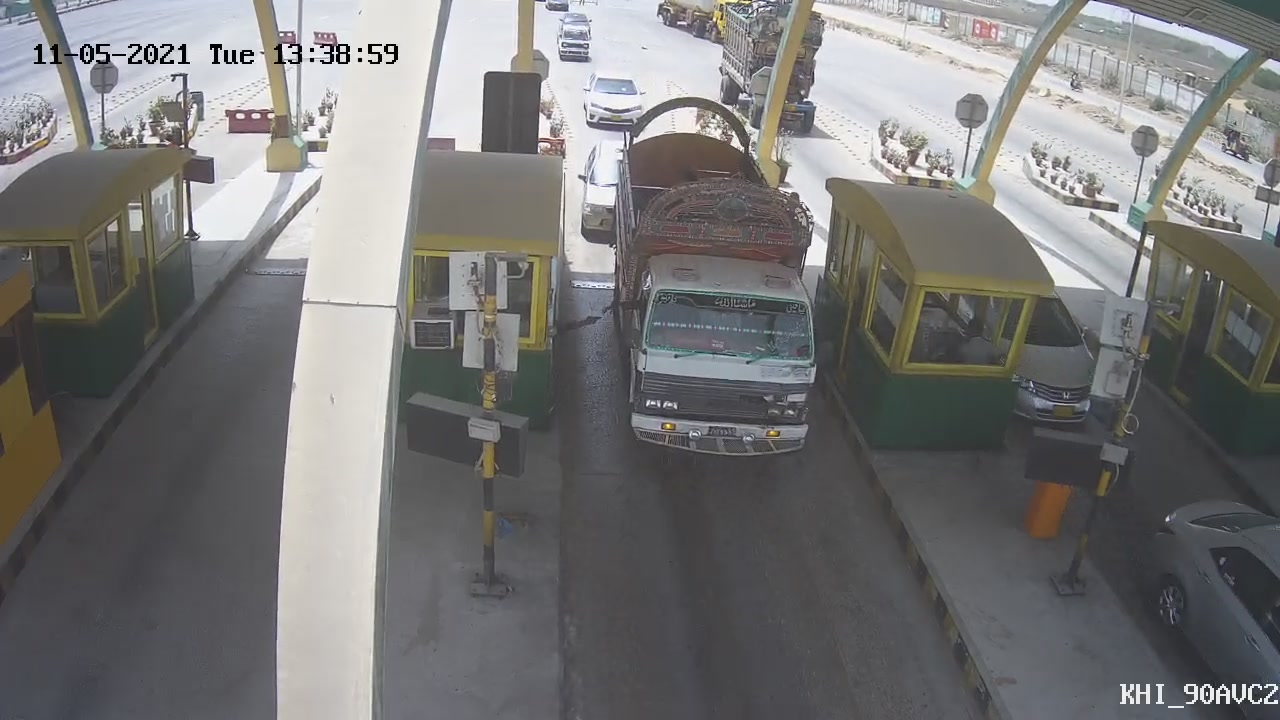F5: (606, 101, 835, 482)
